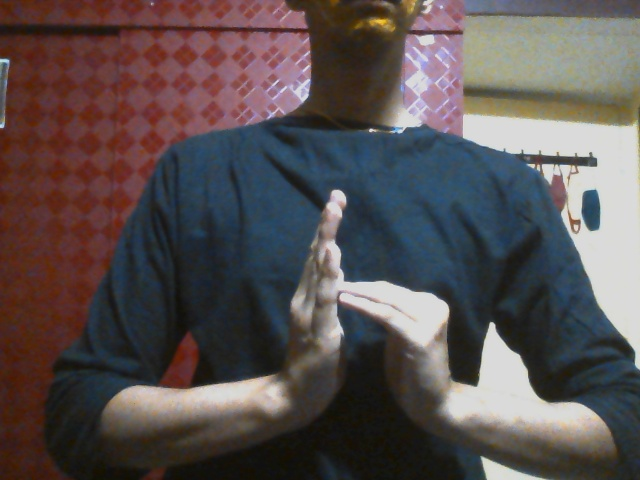Z: (273, 187, 462, 444)
